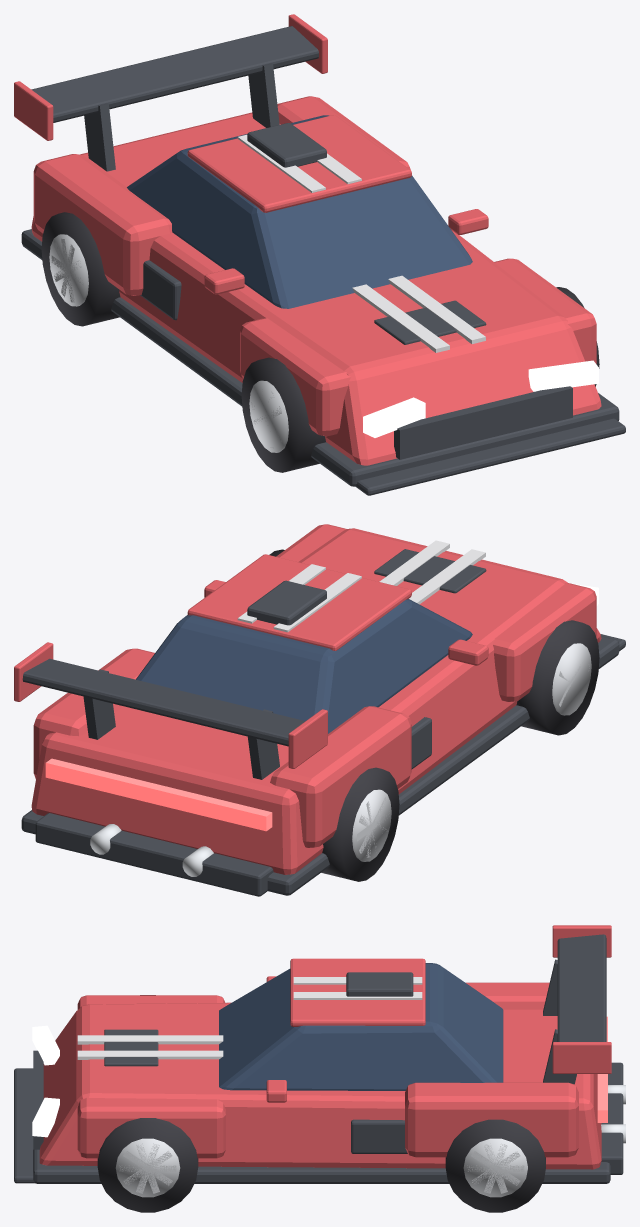
The model's file is sports_car.glb.
3 renders of one model, top to bottom at view 1: azimuth 30°, elevation 25°; view 2: azimuth 150°, elevation 25°; view 3: azimuth 270°, elevation 25°, orthographic. The views are drawn at different scales.
Visible parts, largest first — view 1: MainBody, CabinCanopy, RearWingBlade, RearFender_-0.92, RoofCap, Undertray, FrontGrille, FrontFender_-0.92, FrontSplitter, Tire_-1.02_-1.35, Tire_-1.02_1.35, FrontFender_0.92 (+17 smaller); view 2: MainBody, CabinCanopy, RearFender_-0.92, RoofCap, RearWingBlade, RearDiffuser, FrontFender_-0.92, Undertray, TailLightBar, Tire_-1.02_-1.35, Tire_-1.02_1.35, RearFender_0.92 (+17 smaller); view 3: MainBody, CabinCanopy, RearFender_0.92, Undertray, RoofCap, FrontFender_0.92, RearWingBlade, Tire_1.02_-1.35, Tire_1.02_1.35, RimHub_1.02_-1.35, RimHub_1.02_1.35, FrontSplitter (+19 smaller).
Boxes of the visible parts, bbox=[...] form: MainBody: bbox=[31, 112, 601, 465]; CabinCanopy: bbox=[127, 115, 472, 308]; RearWingBlade: bbox=[31, 26, 318, 122]; RearFender_-0.92: bbox=[33, 154, 172, 295]; RoofCap: bbox=[187, 115, 411, 212]; Undertray: bbox=[21, 229, 619, 486]; FrontGrille: bbox=[394, 386, 572, 459]; FrontFender_-0.92: bbox=[240, 318, 350, 436]; FrontSplitter: bbox=[355, 418, 625, 495]; Tire_-1.02_-1.35: bbox=[241, 357, 325, 472]; Tire_-1.02_1.35: bbox=[41, 212, 120, 326]; FrontFender_0.92: bbox=[494, 258, 596, 363]; MainBody: bbox=[31, 528, 601, 874]; CabinCanopy: bbox=[136, 599, 472, 733]; RearFender_-0.92: bbox=[270, 706, 411, 847]; RoofCap: bbox=[187, 554, 411, 650]; RearWingBlade: bbox=[22, 658, 305, 746]; RearDiffuser: bbox=[35, 813, 273, 896]; FrontFender_-0.92: bbox=[493, 583, 596, 701]; Undertray: bbox=[21, 636, 619, 895]; TailLightBar: bbox=[45, 758, 272, 831]; Tire_-1.02_-1.35: bbox=[516, 620, 599, 735]; Tire_-1.02_1.35: bbox=[321, 767, 399, 881]; RearFender_0.92: bbox=[33, 648, 154, 778]; MainBody: bbox=[39, 1002, 601, 1169]; CabinCanopy: bbox=[219, 963, 503, 1090]; RearFender_0.92: bbox=[405, 1082, 578, 1157]; Undertray: bbox=[33, 1149, 610, 1183]; RoofCap: bbox=[290, 958, 425, 1026]; FrontFender_0.92: bbox=[77, 1097, 225, 1158]; RearWingBlade: bbox=[557, 934, 606, 1041]; Tire_1.02_-1.35: bbox=[97, 1118, 198, 1212]; Tire_1.02_1.35: bbox=[445, 1119, 545, 1212]; RimHub_1.02_-1.35: bbox=[115, 1138, 180, 1197]; RimHub_1.02_1.35: bbox=[463, 1138, 527, 1197]; FrontSplitter: bbox=[14, 1068, 34, 1183].
Bounding box in the file's own units: 2.38 × 1.44 × 4.75.
